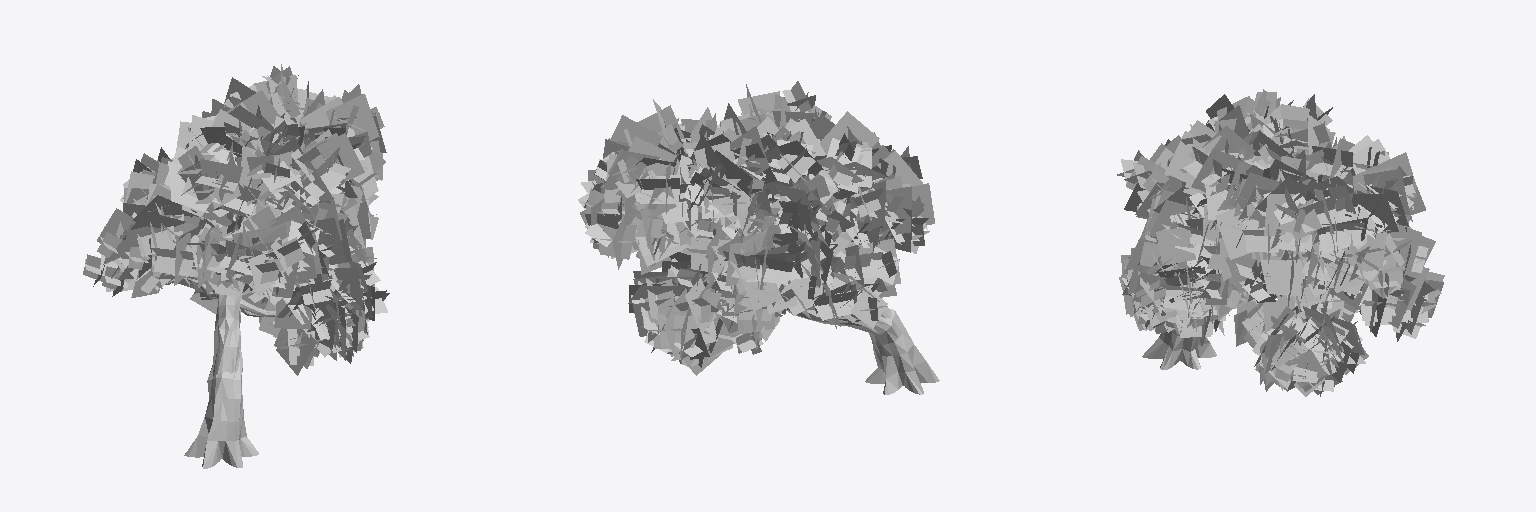
File: CherryBlossom_2.obj
3 views of the same model, side by side, from view 1: azimuth 30°, elevation 25°; view 2: azimuth 150°, elevation 25°; view 3: azimuth 270°, elevation 25° (orthographic).
Parts seen in each view (by area): view 1: CherryBlossom_2; view 2: CherryBlossom_2; view 3: CherryBlossom_2.
Part boxes in pixels (x1,y1,x2,y2): CherryBlossom_2: (83, 64, 389, 468); CherryBlossom_2: (578, 81, 939, 394); CherryBlossom_2: (1117, 89, 1444, 396).
Size of the model in its own units: 12.43 by 11.56 by 12.23.